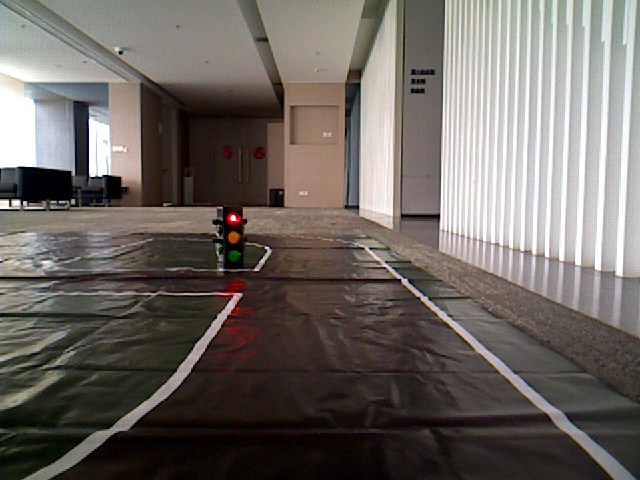red: (221, 209, 244, 262)
